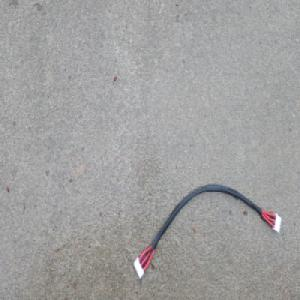Wire: (133, 182, 282, 280)
